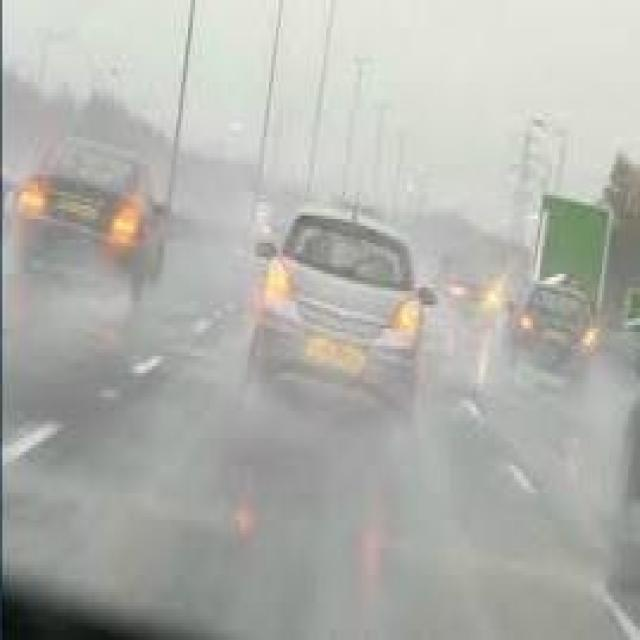Car: (244, 204, 441, 421), (13, 136, 178, 310), (497, 276, 604, 396)
